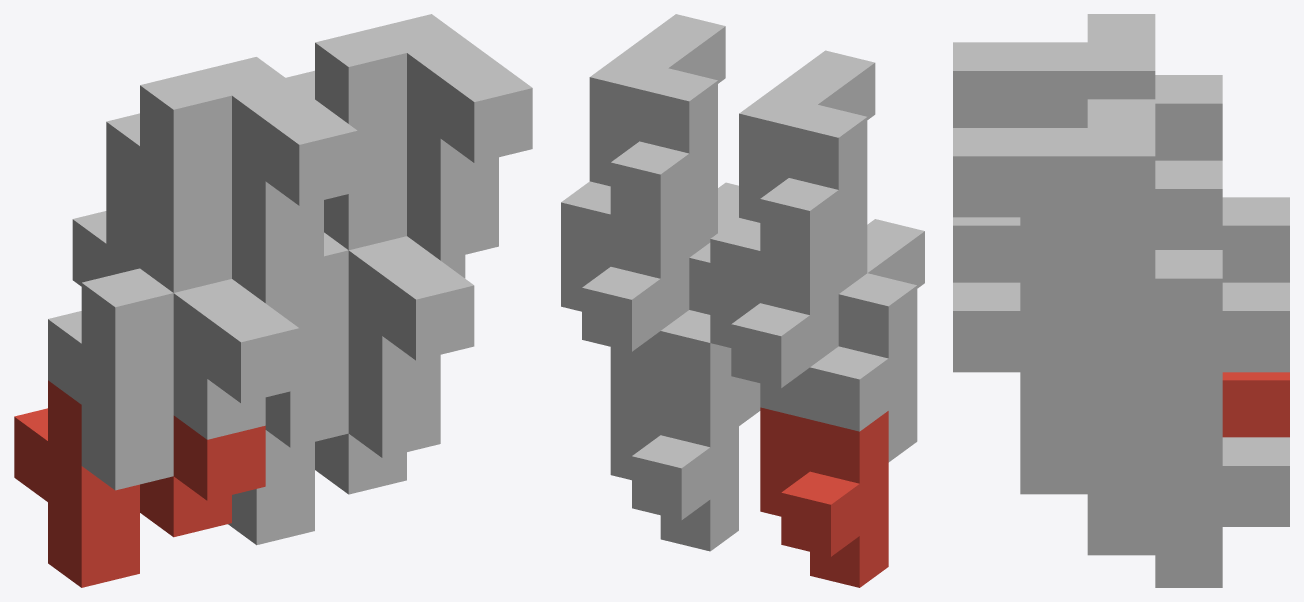
The model's file is tiling.obj.
The picture shows the model from 3 angles, left to right: view 1: azimuth 30°, elevation 25°; view 2: azimuth 150°, elevation 25°; view 3: azimuth 270°, elevation 25°; orthographic projection. The views are drawn at different scales.
Visible parts, largest first — view 1: copy_1_domain_4, copy_1_domain_2, copy_1_domain_8, copy_1_domain_6, copy_1_domain_1, copy_1_domain_5, copy_1_domain_3, copy_1_domain_7; view 2: copy_1_domain_4, copy_1_domain_8, copy_1_domain_1, copy_1_domain_5, copy_1_domain_7, copy_1_domain_3, copy_1_domain_2, copy_1_domain_6; view 3: copy_1_domain_8, copy_1_domain_7, copy_1_domain_5, copy_1_domain_4, copy_1_domain_6, copy_1_domain_3, copy_1_domain_2, copy_1_domain_1.
Part boxes in pixels (x1,y1,x2,y2): copy_1_domain_4: (106, 57, 357, 292); copy_1_domain_2: (48, 268, 299, 490); copy_1_domain_8: (286, 14, 532, 250); copy_1_domain_6: (265, 232, 474, 447); copy_1_domain_1: (14, 380, 265, 587); copy_1_domain_5: (228, 373, 440, 545); copy_1_domain_3: (72, 183, 323, 320); copy_1_domain_7: (407, 175, 498, 278); copy_1_domain_4: (739, 50, 875, 293); copy_1_domain_8: (589, 14, 725, 257); copy_1_domain_1: (760, 407, 888, 587); copy_1_domain_5: (610, 371, 738, 551); copy_1_domain_7: (561, 181, 689, 382); copy_1_domain_3: (710, 218, 838, 419); copy_1_domain_2: (810, 219, 924, 462); copy_1_domain_6: (660, 182, 760, 425); copy_1_domain_8: (953, 99, 1222, 278); copy_1_domain_7: (1020, 250, 1289, 433); copy_1_domain_5: (1020, 433, 1289, 587); copy_1_domain_4: (953, 14, 1222, 160); copy_1_domain_6: (953, 282, 1155, 433); copy_1_domain_3: (1222, 197, 1289, 282); copy_1_domain_2: (953, 217, 1020, 282); copy_1_domain_1: (1222, 372, 1289, 437).
Size of the model in its own units: 6 by 8 by 5.
